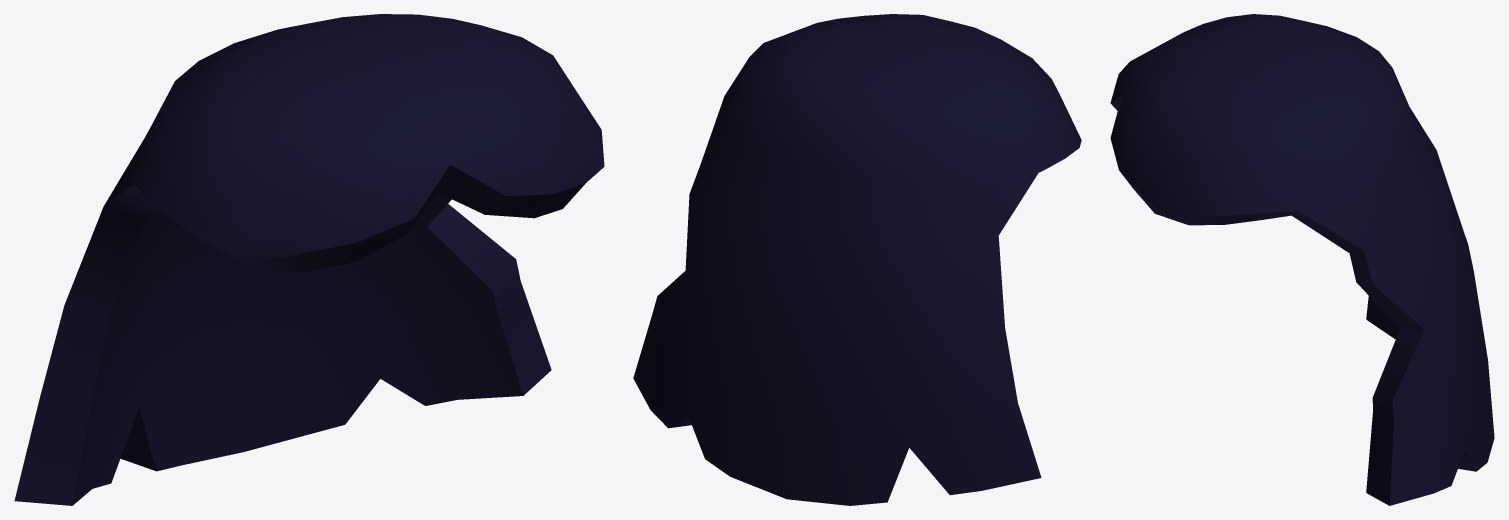
The model's file is skeleton_mage_cape.obj.
The picture shows the model from 3 angles, left to right: view 1: azimuth 30°, elevation 25°; view 2: azimuth 150°, elevation 25°; view 3: azimuth 270°, elevation 25°; orthographic projection. The views are drawn at different scales.
Visible parts, largest first — view 1: character_skeleton_mage_cloak; view 2: character_skeleton_mage_cloak; view 3: character_skeleton_mage_cloak.
Boxes of the visible parts, x1,y1,x2,y2 form: character_skeleton_mage_cloak: (14, 14, 604, 505); character_skeleton_mage_cloak: (633, 14, 1081, 505); character_skeleton_mage_cloak: (1110, 14, 1494, 505).
Bounding box in the file's own units: 0.8829 × 0.7693 × 0.6941.
